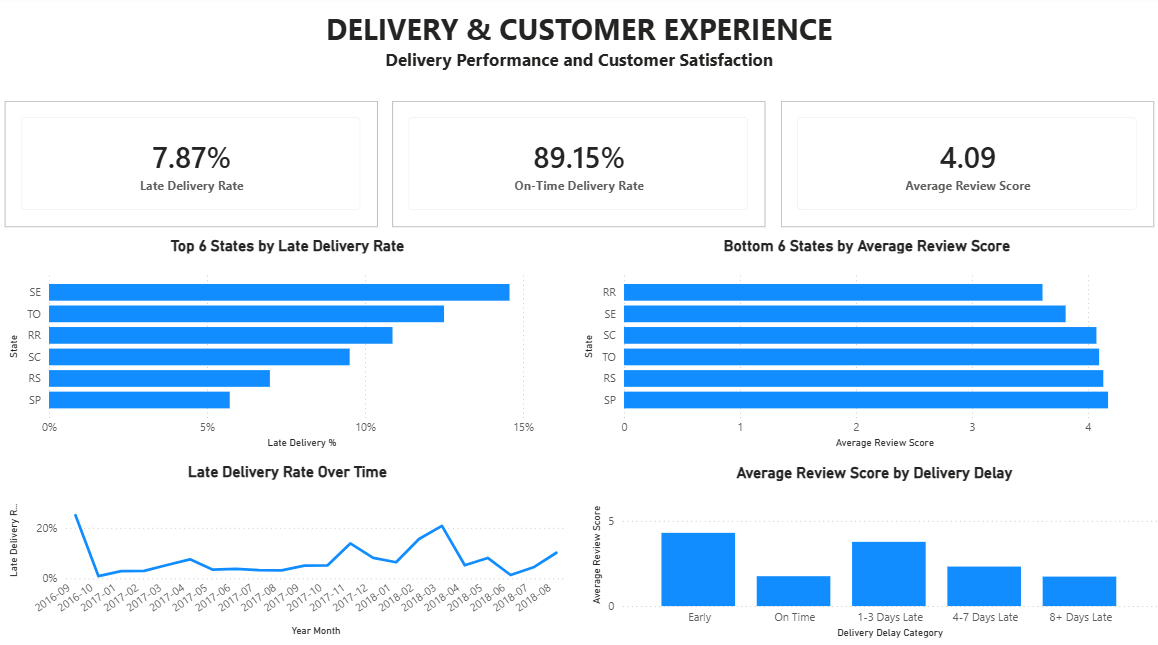

What the dashboard file says about the page in this screenshot:
{"tool":"powerbi","page":{"name":"Delivery & Customer Experience","canvas":[1280,720],"ordinal":1},"visuals":[{"type":"textbox","box":[9.8,9.8,1261.4,96.9],"z":0},{"type":"cardVisual","fields":{"Data":["Delivery Performance Measures.Late Delivery Rate"]},"box":[9.8,115.3,409.8,138.7],"z":1000},{"type":"cardVisual","fields":{"Data":["Delivery Performance Measures.On-Time Delivery Rate"]},"box":[435.6,115.3,409.8,138.7],"z":2000},{"type":"cardVisual","fields":{"Data":["customer experience measures.Average Review Score"]},"box":[861.4,115.3,409.8,138.7],"z":3000},{"type":"clusteredBarChart","title":"Top 6 States by Late Delivery Rate","fields":{"Category":["swiftcart_order_analysis.customer_state"],"Y":["Delivery Performance Measures.Late Delivery Rate"]},"box":[9.8,263.8,620.9,238],"z":4000},{"type":"clusteredBarChart","title":"Bottom 6 States by Average Review Score","fields":{"Category":["swiftcart_order_analysis.customer_state"],"Y":["customer experience measures.Average Review Score"]},"box":[640.5,263.8,630.7,238],"z":5000},{"type":"lineChart","title":"Late Delivery Rate Over Time","fields":{"Category":["Date.Year Month"],"Y":["Delivery Performance Measures.Late Delivery Rate"]},"box":[9.8,511.7,620.9,196.3],"z":6000},{"type":"clusteredColumnChart","title":"Average Review Score by Delivery Delay","fields":{"Y":["customer experience measures.Average Review Score"],"Category":["swiftcart_order_analysis.Delivery Delay Category"]},"box":[649.1,513.3,630.7,196.3],"z":7000}]}

Visuals, with their boxes in screenshot pixels (x1, y1, x2, y2), scaled from the page's 1280x720 canvas onto the 1158x645 screenshot:
textbox: bbox=(9, 9, 1150, 96)
cardVisual - Delivery Performance Measures.Late Delivery Rate: bbox=(9, 103, 380, 228)
cardVisual - Delivery Performance Measures.On-Time Delivery Rate: bbox=(394, 103, 765, 228)
cardVisual - customer experience measures.Average Review Score: bbox=(779, 103, 1150, 228)
"Top 6 States by Late Delivery Rate" clusteredBarChart: bbox=(9, 236, 571, 450)
"Bottom 6 States by Average Review Score" clusteredBarChart: bbox=(579, 236, 1150, 450)
"Late Delivery Rate Over Time" lineChart: bbox=(9, 458, 571, 634)
"Average Review Score by Delivery Delay" clusteredColumnChart: bbox=(587, 460, 1157, 636)
